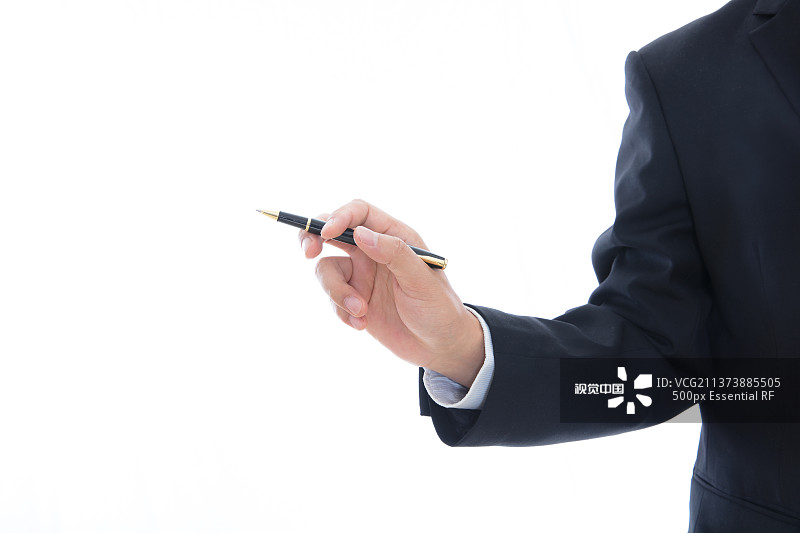no-phone: (240, 181, 489, 379)
